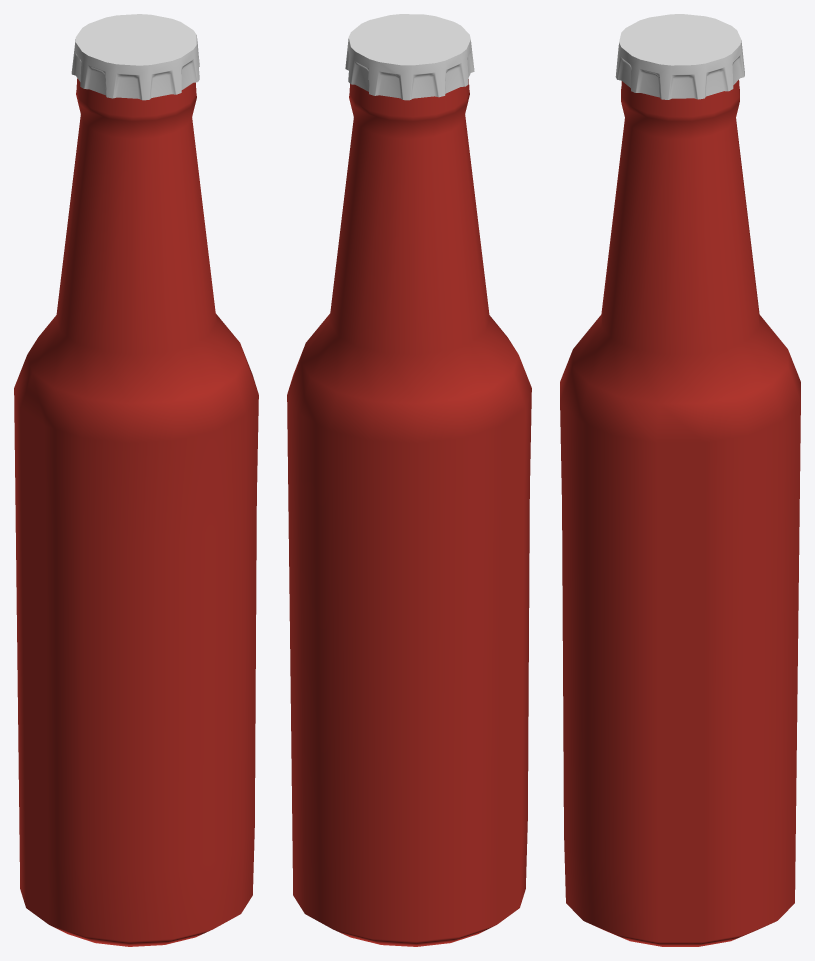
Rendered from GarrafaVidroNova.fbx.
3 views of the same model, side by side, from view 1: azimuth 30°, elevation 25°; view 2: azimuth 150°, elevation 25°; view 3: azimuth 270°, elevation 25° (orthographic).
Visible parts, largest first — view 1: Cylinder_hp.001, carica_lp.001; view 2: Cylinder_hp.001, carica_lp.001; view 3: Cylinder_hp.001, carica_lp.001.
Boxes of the visible parts, x1=… form: Cylinder_hp.001: x1=14, y1=78, x2=258, y2=946; carica_lp.001: x1=71, y1=14, x2=199, y2=100; Cylinder_hp.001: x1=287, y1=79, x2=531, y2=946; carica_lp.001: x1=345, y1=14, x2=474, y2=100; Cylinder_hp.001: x1=560, y1=80, x2=800, y2=946; carica_lp.001: x1=615, y1=14, x2=744, y2=99.
Bounding box in the file's own units: 149 × 595 × 149.
